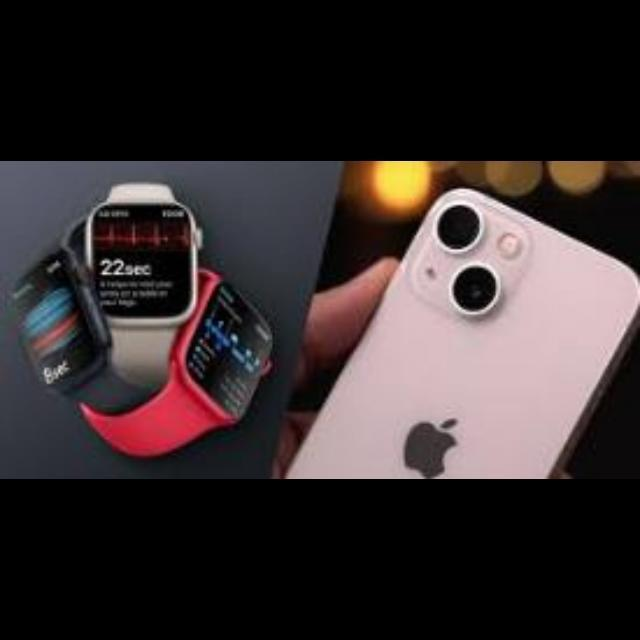PhoneUse: (283, 186, 639, 479)
